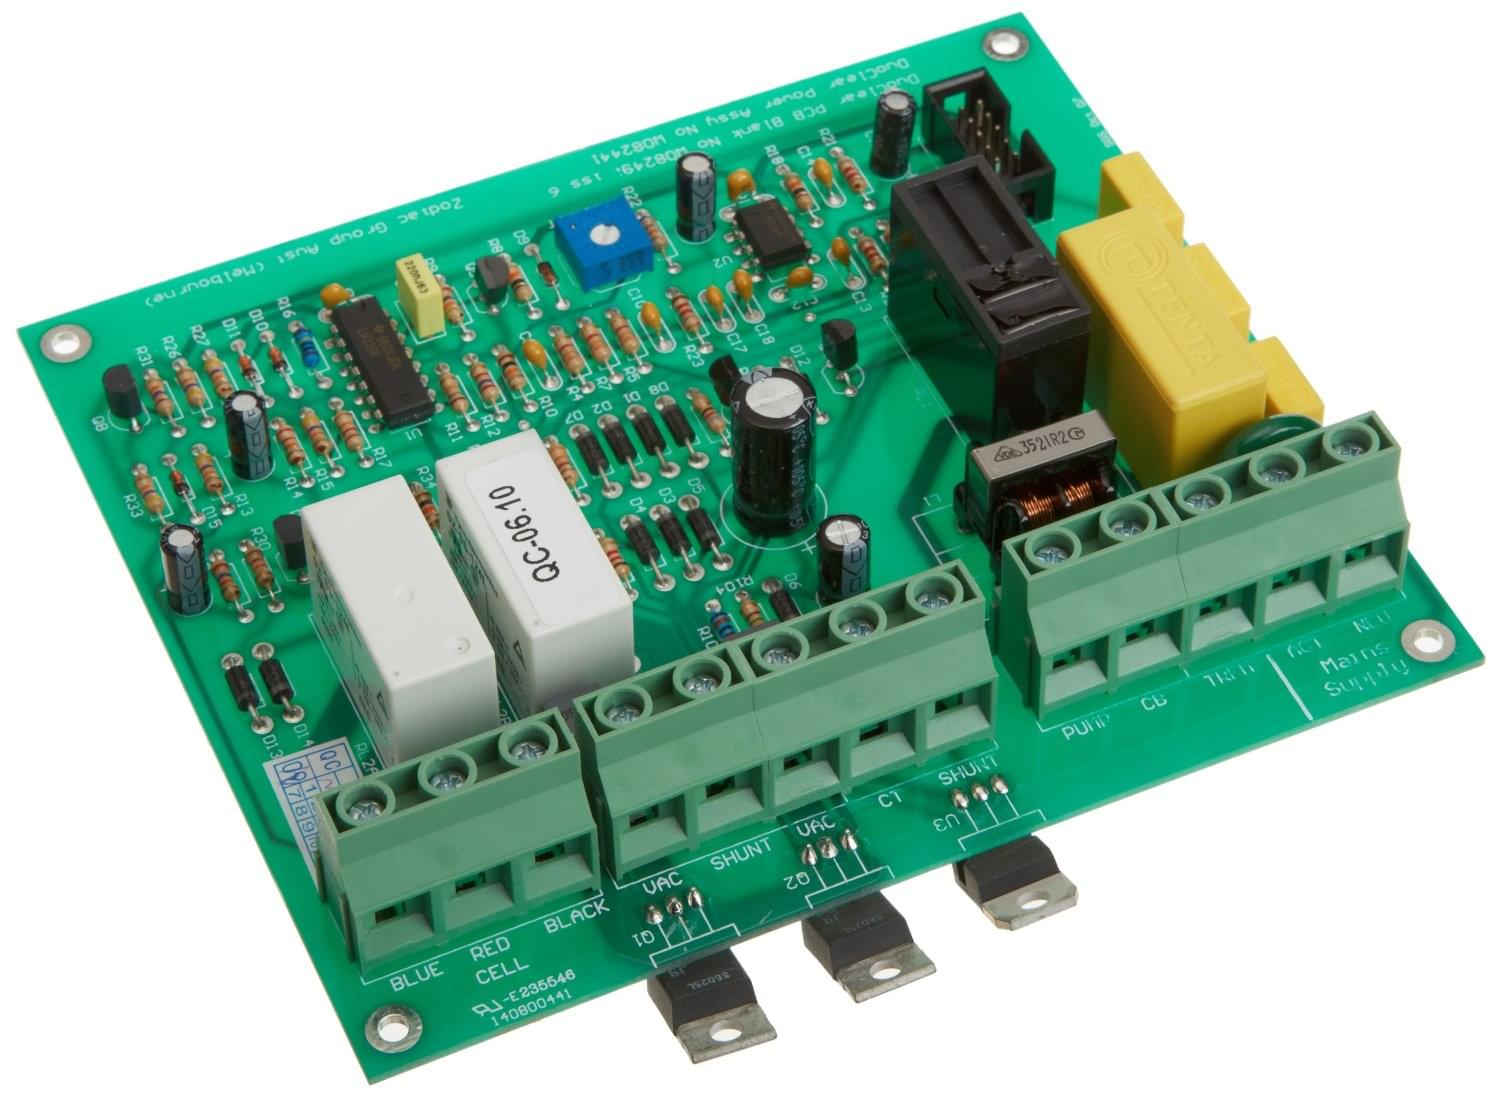capacitor: (705, 348, 830, 547), (137, 509, 226, 628), (661, 134, 737, 266), (212, 369, 286, 497), (805, 503, 883, 610), (861, 75, 925, 188)
